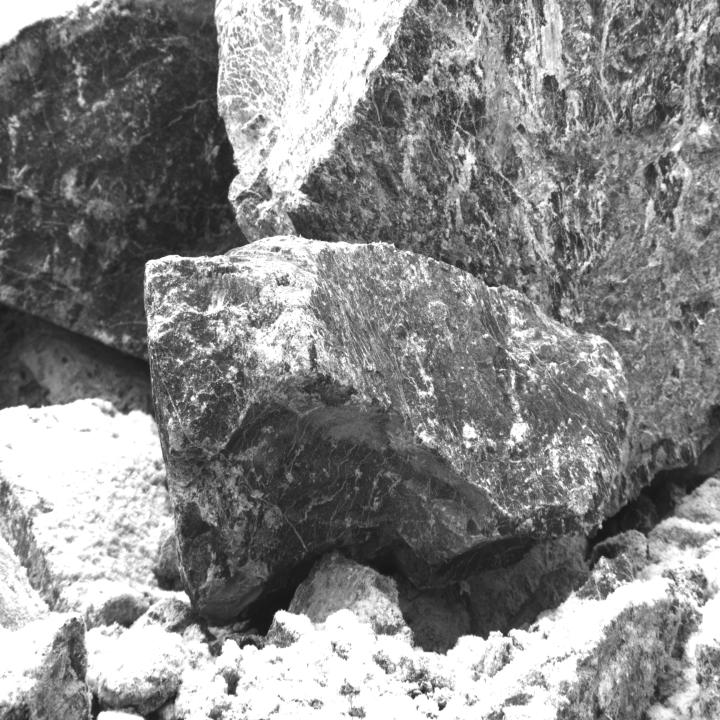stone: (215, 0, 719, 501), (143, 235, 630, 624)
